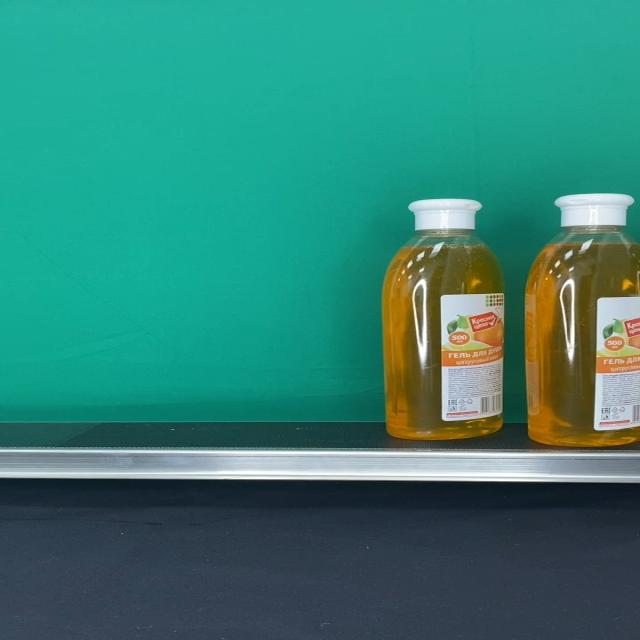Bottle: (381, 200, 506, 440), (525, 194, 640, 446)
Cap: (556, 194, 634, 227), (409, 200, 483, 230)
